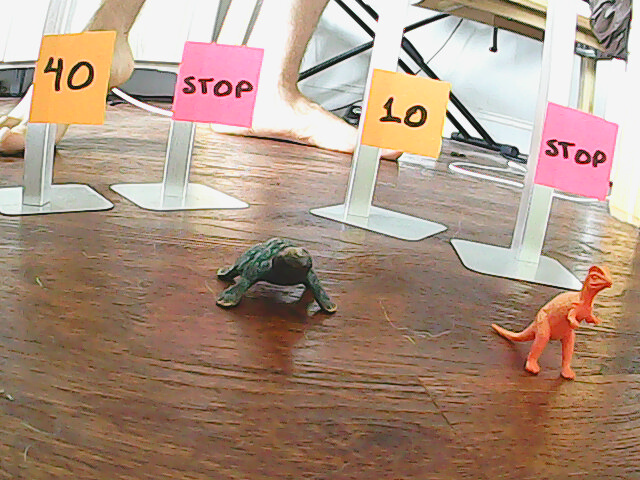10: (372, 80, 438, 150)
40: (39, 38, 103, 123)
dinosaur: (488, 258, 616, 386)
stop: (180, 54, 255, 118), (542, 121, 609, 185)
turtle: (212, 235, 341, 321)
